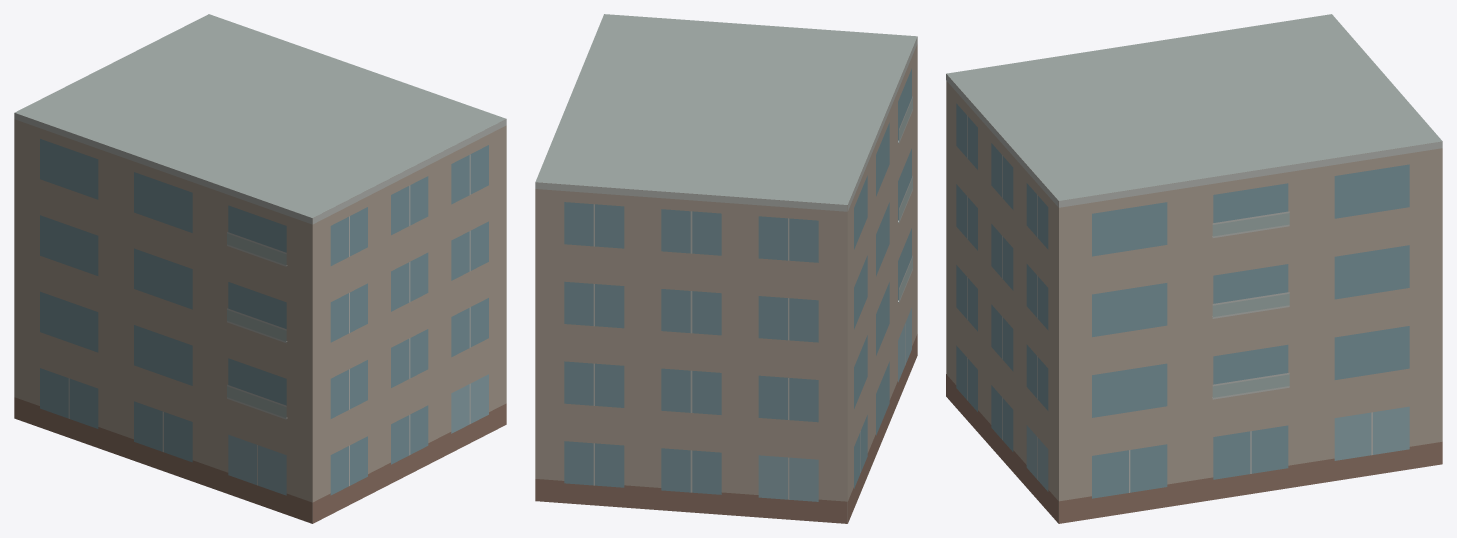
File: survey-upis-32982972.glb
3 renders of one model, left to right at view 1: azimuth 30°, elevation 25°; view 2: azimuth 150°, elevation 25°; view 3: azimuth 270°, elevation 25°, orthographic. The views are drawn at different scales.
Visible parts, largest first — view 1: survey-upis-32982972.tmp; view 2: survey-upis-32982972.tmp; view 3: survey-upis-32982972.tmp.
Part boxes in pixels (bbox=[...]): survey-upis-32982972.tmp: bbox=[14, 14, 506, 523]; survey-upis-32982972.tmp: bbox=[535, 14, 917, 523]; survey-upis-32982972.tmp: bbox=[946, 14, 1442, 523].
Size of the model in its own units: 14.42 by 11.6 by 16.18.
